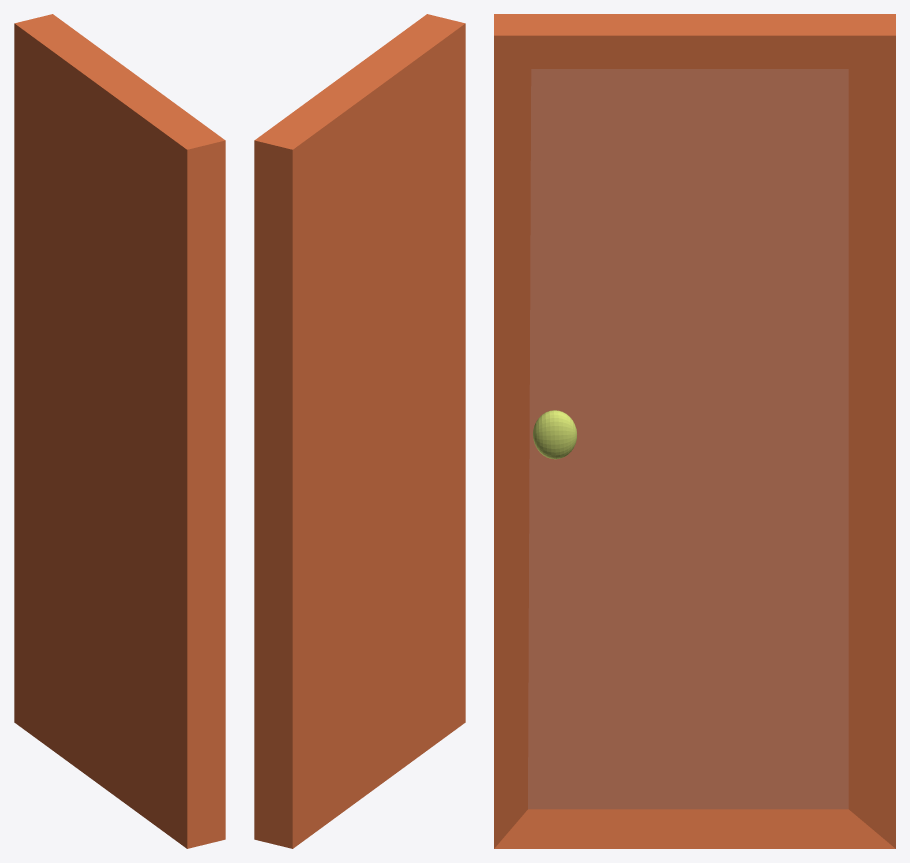
File: dprrr.fbx
3 views of the same model, side by side, from view 1: azimuth 30°, elevation 25°; view 2: azimuth 150°, elevation 25°; view 3: azimuth 270°, elevation 25° (orthographic). The views are drawn at different scales.
Visible parts, largest first — view 1: Sphere; view 2: Sphere; view 3: Sphere.
Boxes of the visible parts, left/top/right/bottom form: Sphere: left=14, top=14, right=225, bottom=848; Sphere: left=254, top=14, right=465, bottom=848; Sphere: left=494, top=14, right=895, bottom=848.
Bounding box in the file's own units: 33.04 × 447 × 200.
